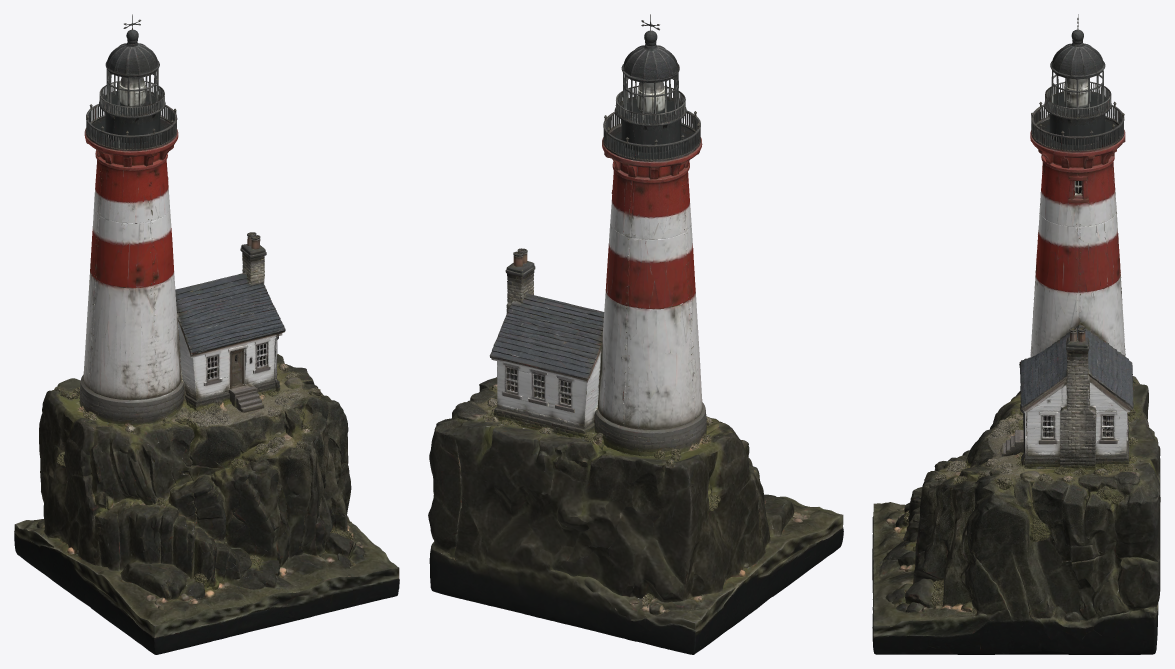
File: lighthouse.glb
3 views of the same model, side by side, from view 1: azimuth 30°, elevation 25°; view 2: azimuth 150°, elevation 25°; view 3: azimuth 270°, elevation 25° (orthographic). The views are drawn at different scales.
Visible parts, largest first — view 1: Mesh_0; view 2: Mesh_0; view 3: Mesh_0.
Boxes of the visible parts, x1=… form: Mesh_0: x1=14, y1=14, x2=399, y2=654; Mesh_0: x1=428, y1=14, x2=843, y2=654; Mesh_0: x1=872, y1=14, x2=1160, y2=654.
Bounding box in the file's own units: 0.9051 × 1.91 × 0.8914.
Materials: 1 (1 with a texture image).
